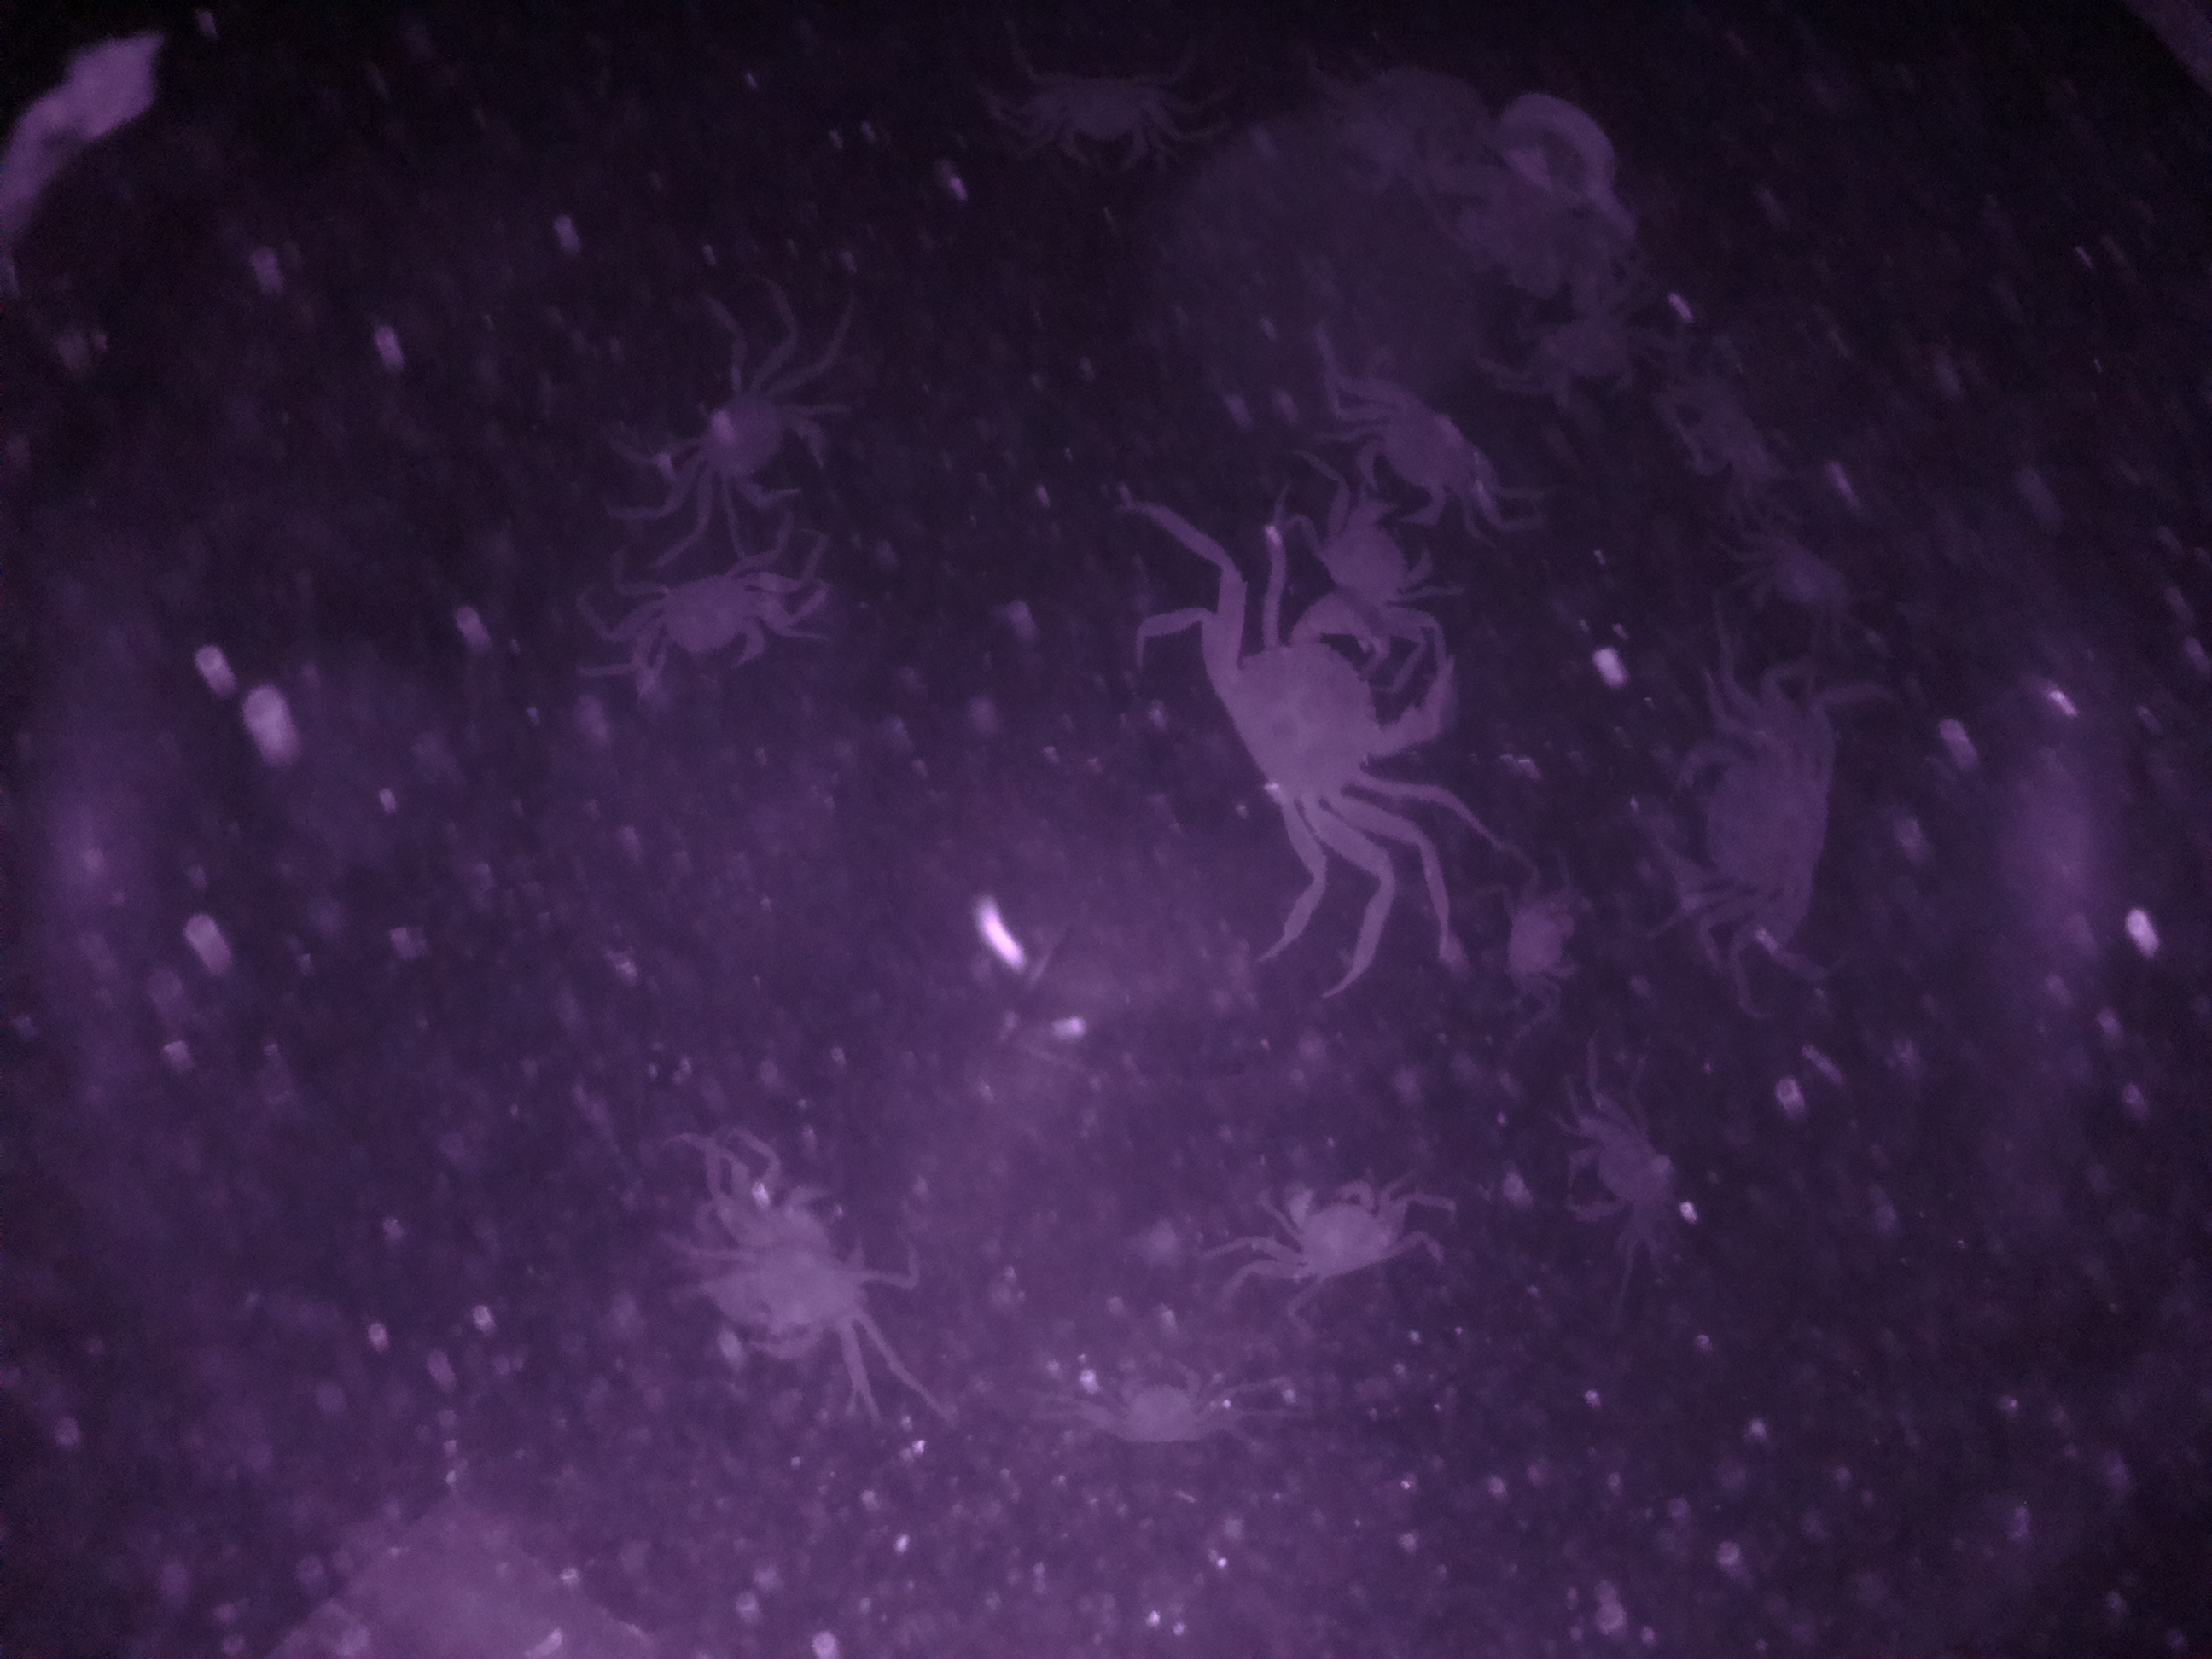Crab: (1186, 582, 1465, 843), (1637, 711, 1872, 950), (1336, 380, 1527, 547), (648, 364, 843, 521), (613, 559, 812, 699), (1242, 1164, 1428, 1312)
